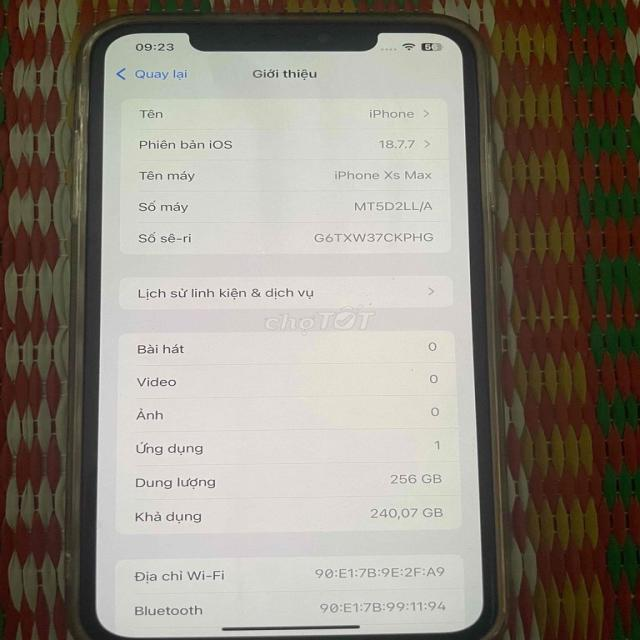gen_x_xs: (59, 10, 498, 640)
